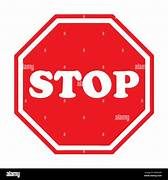stop: (15, 10, 154, 154)
